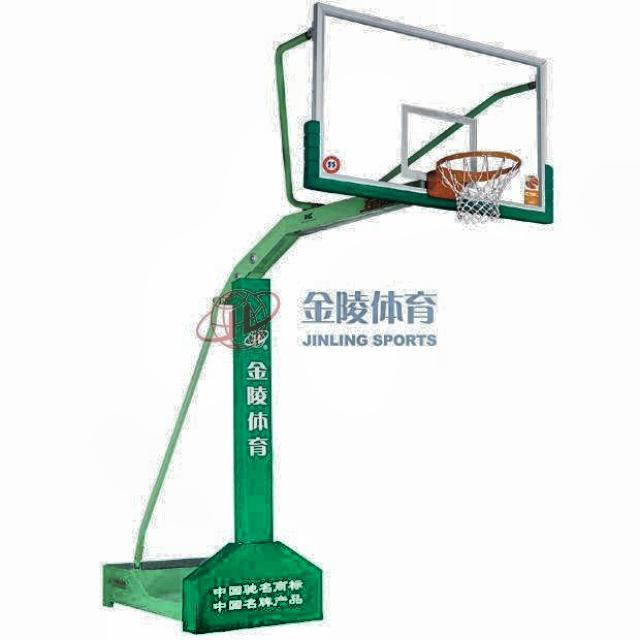rim: (437, 151, 523, 224)
